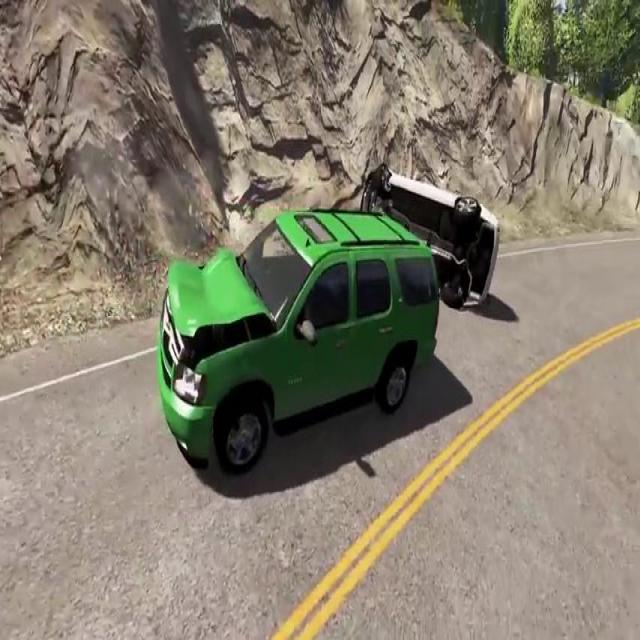accident: (359, 153, 505, 318)
